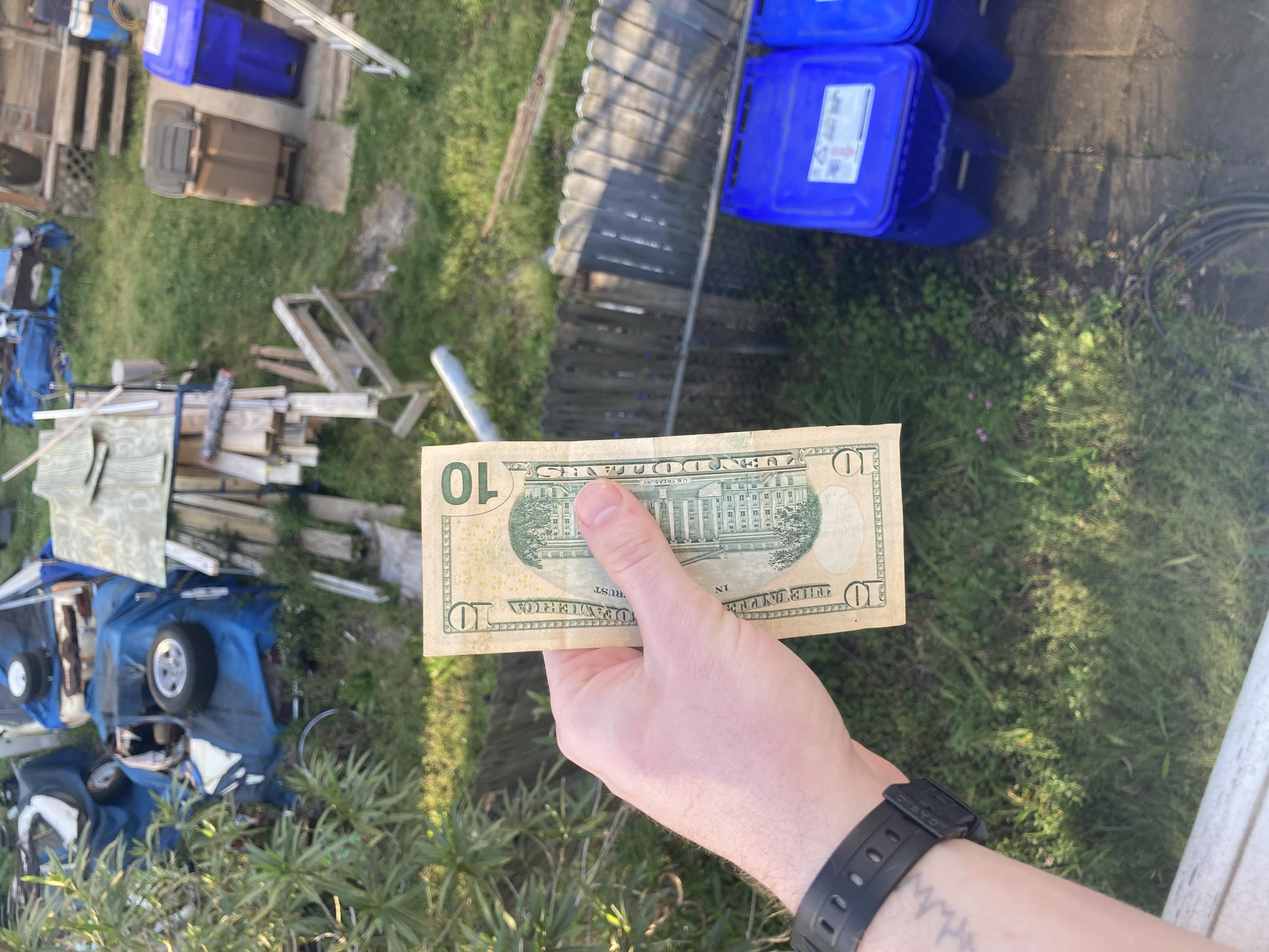ten-back: (393, 317, 705, 679)
